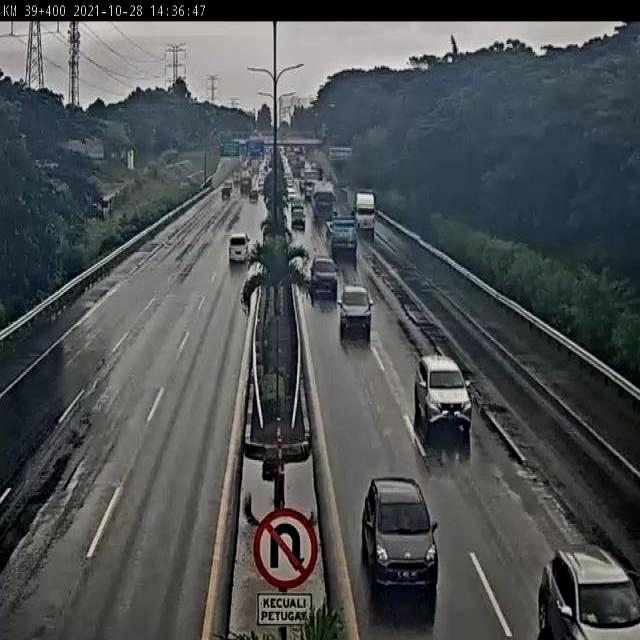Car: (538, 541, 640, 640), (360, 476, 439, 600), (414, 352, 474, 444), (337, 285, 374, 342), (310, 256, 339, 298), (291, 209, 306, 230), (290, 197, 304, 211), (249, 186, 258, 202)
Truck: (346, 185, 377, 238), (327, 216, 359, 258), (311, 180, 338, 222), (304, 170, 319, 198), (232, 170, 242, 186)
Van: (229, 231, 250, 262)
